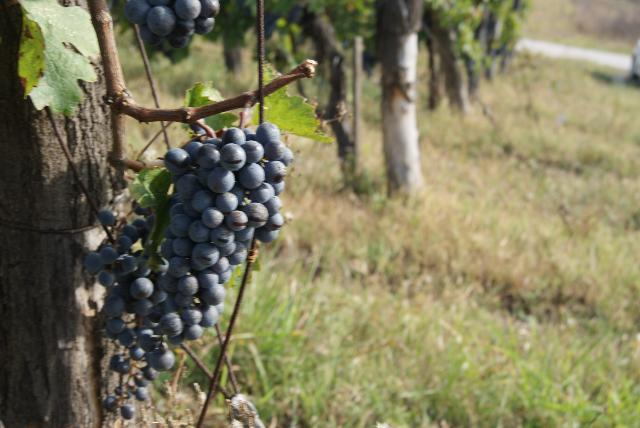grapes: (158, 122, 294, 344)
